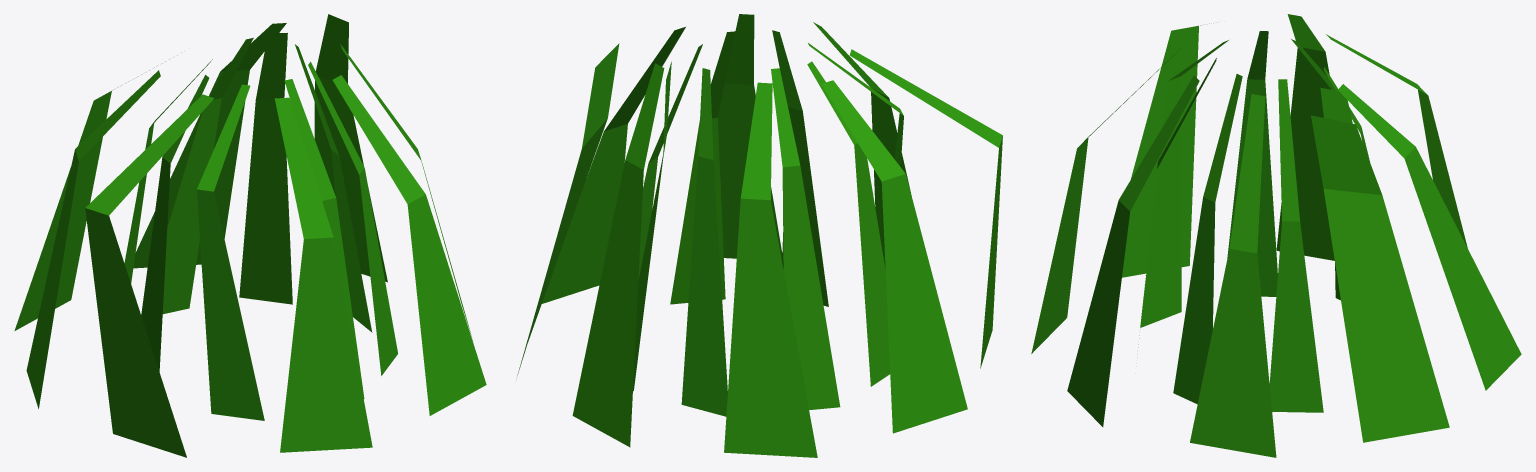
File: Grass.fbx
3 renders of one model, left to right at view 1: azimuth 30°, elevation 25°; view 2: azimuth 150°, elevation 25°; view 3: azimuth 270°, elevation 25°, orthographic.
Visible parts, largest first — view 1: Circle.003; view 2: Circle.003; view 3: Circle.003.
Boxes of the visible parts, x1,y1,x2,y2 form: Circle.003: (14,14,486,457); Circle.003: (517,14,1002,457); Circle.003: (1031,14,1521,457).
Size of the model in its own units: 130 by 87.38 by 130.
